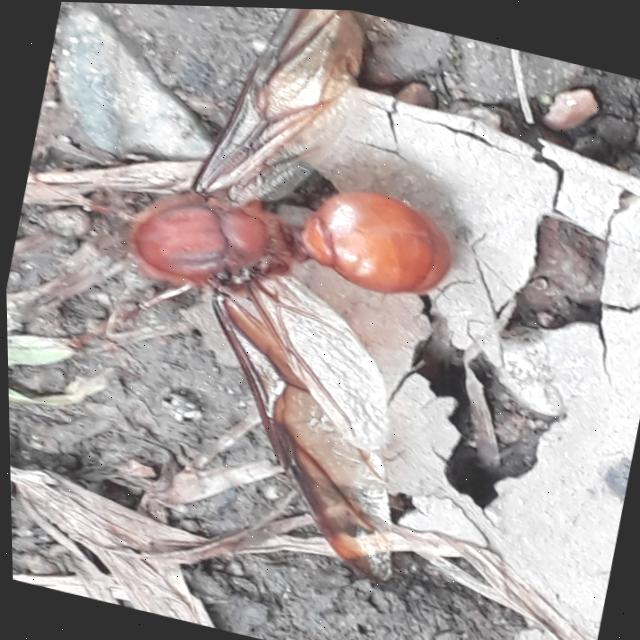Dead-Male-Alate: (0, 0, 504, 588)
